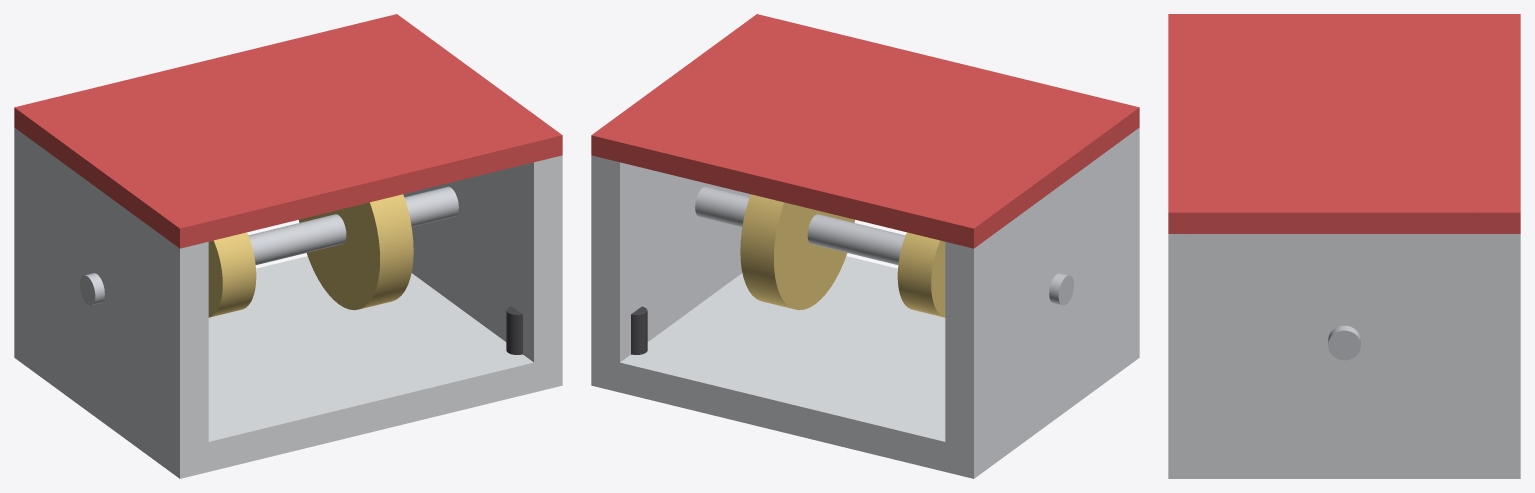
Rendered from GearboxAssembly.glb.
3 renders of one model, left to right at view 1: azimuth 30°, elevation 25°; view 2: azimuth 150°, elevation 25°; view 3: azimuth 270°, elevation 25°, orthographic. The views are drawn at different scales.
Parts seen in each view (by area): view 1: Cover, Base Plate, Side Wall Left, Side Wall Right, Gear A, Shaft, Gear B, Bolt 4; view 2: Cover, Base Plate, Side Wall Left, Side Wall Right, Gear A, Shaft, Gear B, Bolt 2; view 3: Cover, Side Wall Right, Base Plate, Shaft.
Boxes of the visible parts, <box> form: Cover: <box>14,14,562,248</box>; Base Plate: <box>14,256,562,478</box>; Side Wall Left: <box>14,127,208,448</box>; Side Wall Right: <box>403,155,562,362</box>; Gear A: <box>299,194,413,310</box>; Shaft: <box>80,186,458,305</box>; Gear B: <box>208,232,256,317</box>; Bolt 4: <box>506,306,522,354</box>; Cover: <box>591,14,1139,248</box>; Base Plate: <box>591,256,1139,478</box>; Side Wall Left: <box>945,127,1139,448</box>; Side Wall Right: <box>591,155,750,362</box>; Gear A: <box>740,194,854,310</box>; Shaft: <box>695,186,1073,305</box>; Gear B: <box>897,232,945,317</box>; Bolt 2: <box>631,306,647,354</box>; Cover: <box>1168,14,1520,233</box>; Side Wall Right: <box>1168,234,1520,446</box>; Base Plate: <box>1168,447,1520,478</box>; Shaft: <box>1328,325,1360,360</box>.
Bounding box in the file's own units: 0.42 × 0.25 × 0.3.
